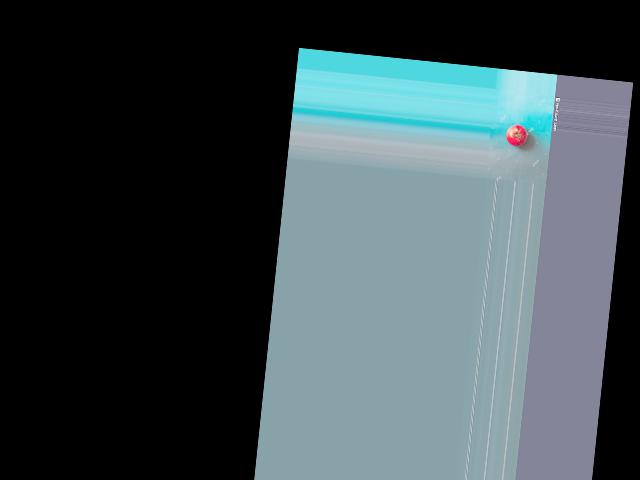tomato: (505, 124, 529, 147)
